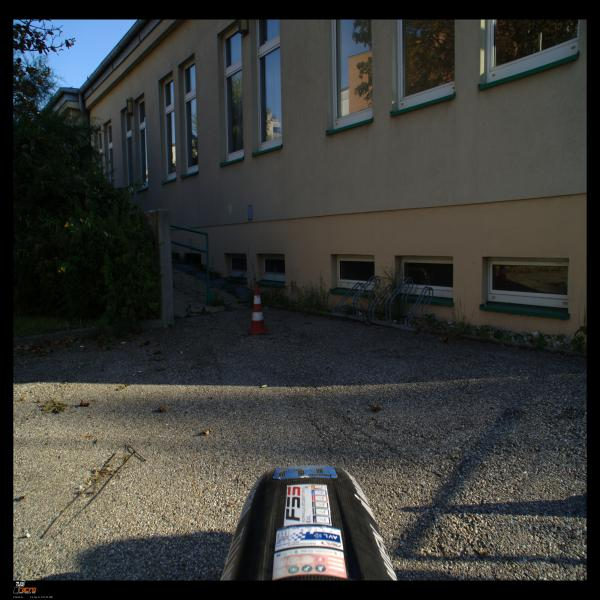large_orange_cone: (248, 283, 269, 335)
